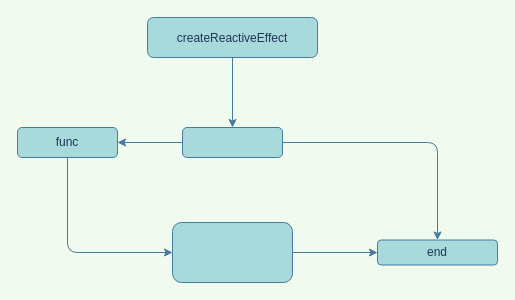
Image size: 515x300. Some labels were removed from this diagram. The box of each missing label's shape, as (x1, y1, x2, y2) in pixels:
do action: (182, 126, 282, 158)
track、trigger: (172, 222, 292, 282)
